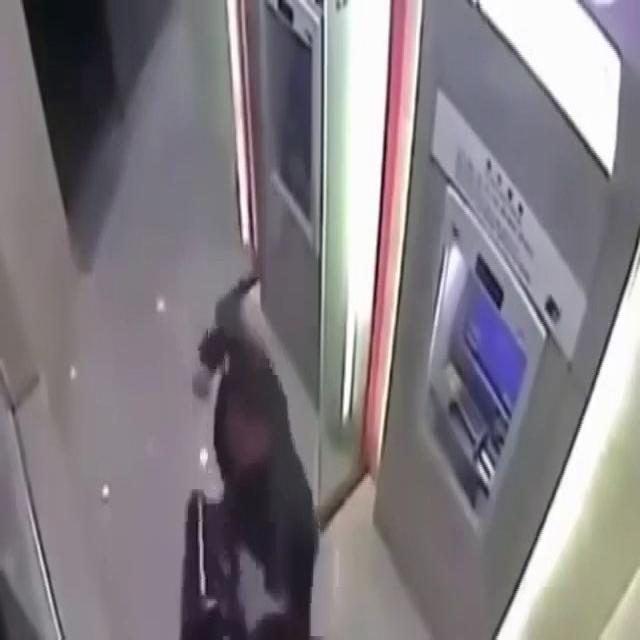fight: (130, 252, 362, 640)
